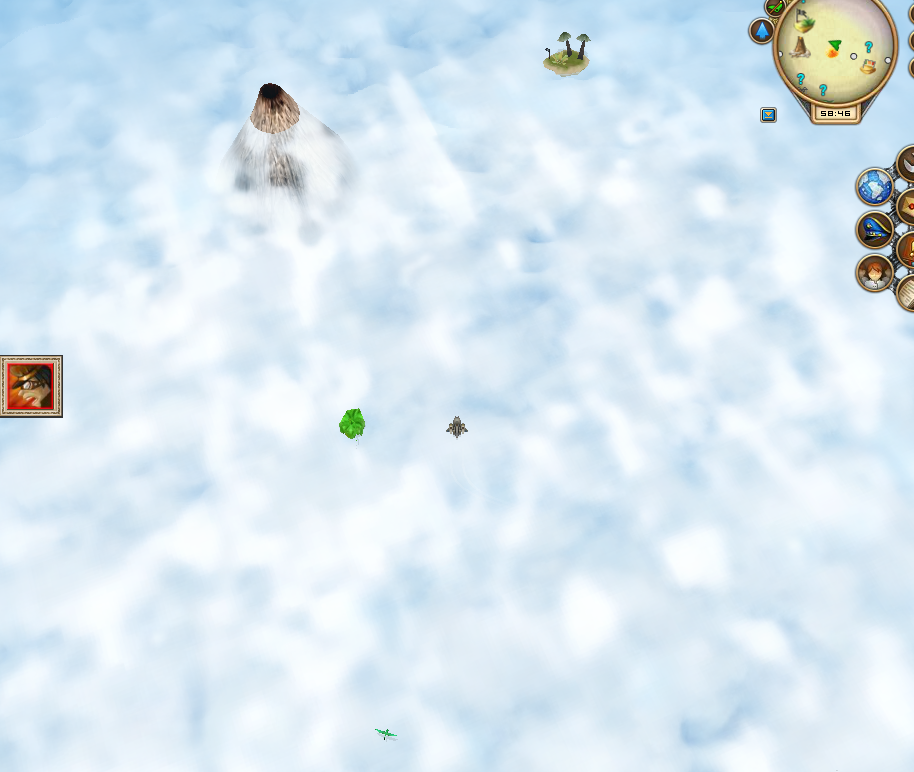dandelion-empty: (334, 403, 368, 443)
